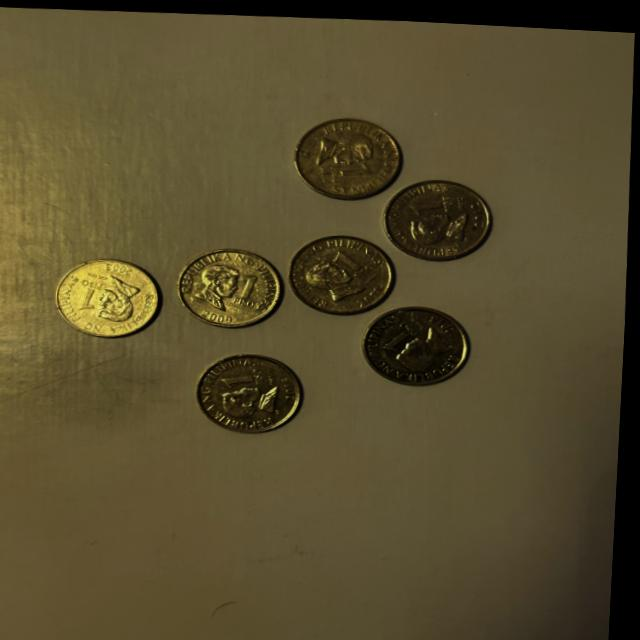1_Old_Front: (371, 312, 427, 355), (329, 237, 379, 280), (211, 362, 272, 395), (409, 184, 462, 219), (232, 266, 275, 309), (76, 276, 117, 315), (328, 155, 383, 182)
